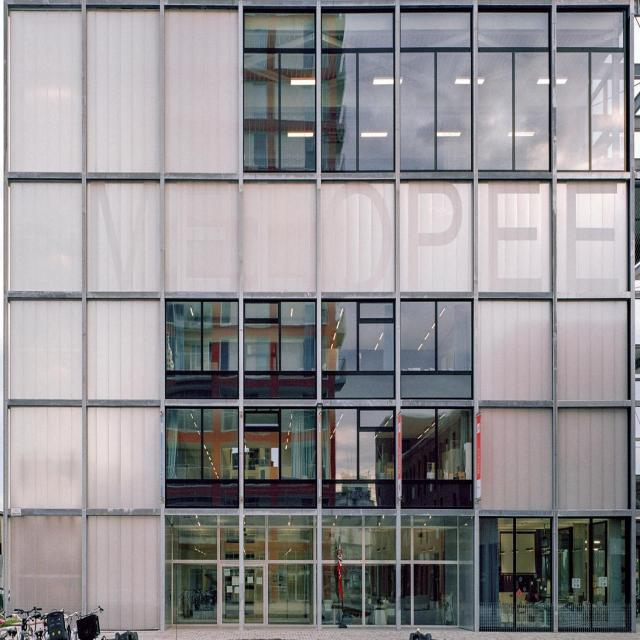door: (217, 560, 269, 627)
window: (167, 515, 315, 622), (477, 8, 552, 173), (243, 9, 317, 176), (322, 8, 395, 176), (400, 9, 473, 174), (557, 8, 629, 173), (322, 518, 394, 630), (480, 521, 552, 632), (558, 521, 630, 632), (401, 517, 473, 627), (165, 300, 239, 401), (164, 406, 238, 507), (323, 300, 397, 400), (323, 407, 397, 507), (402, 410, 475, 510), (401, 300, 473, 401), (244, 408, 316, 509), (245, 302, 317, 402)
